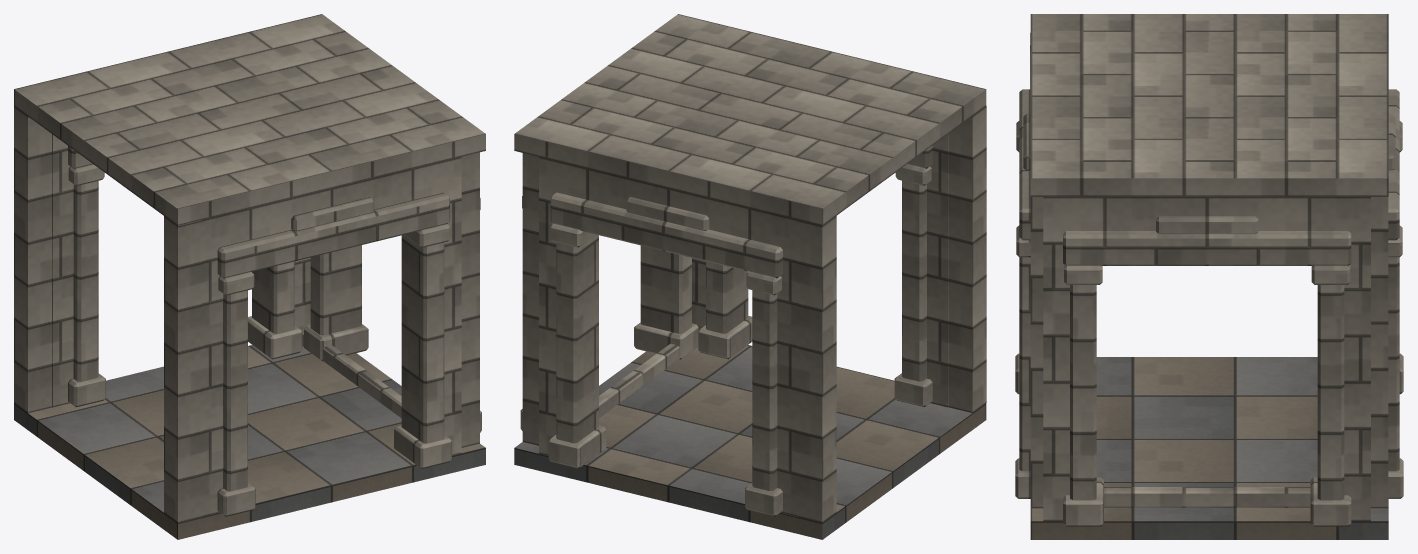
The model's file is MOD_XCross.fbx.
3 views of the same model, side by side, from view 1: azimuth 30°, elevation 25°; view 2: azimuth 150°, elevation 25°; view 3: azimuth 270°, elevation 25° (orthographic). The views are drawn at different scales.
Parts seen in each view (by area): view 1: Ceiling.001, Portal_Frame.001, Floor.001, Portal_Frame.002, Wall_Far.001, Portal_Frame.003, Wall_Far, Skirting.002; view 2: Ceiling.001, Portal_Frame.002, Floor.001, Portal_Frame.001, Wall_Far, Wall_Far.001, Portal_Frame.003, Skirting.002; view 3: Ceiling.001, Portal_Frame.003, Floor.001, Portal_Frame.002, Portal_Frame.001, Skirting.002.
Boxes of the visible parts, x1,y1,x2,y2 form: Ceiling.001: [14, 14, 485, 225]; Portal_Frame.001: [202, 157, 461, 516]; Floor.001: [14, 345, 485, 539]; Portal_Frame.002: [52, 134, 310, 407]; Wall_Far.001: [164, 216, 202, 522]; Portal_Frame.003: [304, 152, 481, 447]; Wall_Far: [14, 106, 51, 413]; Skirting.002: [302, 332, 459, 453]; Ceiling.001: [514, 14, 986, 225]; Portal_Frame.002: [539, 157, 798, 516]; Floor.001: [514, 345, 986, 539]; Portal_Frame.001: [692, 134, 948, 407]; Wall_Far: [798, 216, 836, 522]; Wall_Far.001: [948, 106, 986, 412]; Portal_Frame.003: [520, 153, 698, 445]; Skirting.002: [599, 343, 680, 417]; Ceiling.001: [1030, 14, 1388, 196]; Portal_Frame.003: [1043, 197, 1370, 526]; Floor.001: [1030, 357, 1388, 539]; Portal_Frame.002: [1371, 89, 1403, 508]; Portal_Frame.001: [1015, 89, 1043, 508]; Skirting.002: [1104, 487, 1310, 507].
Bounding box in the file's own units: 395 × 390 × 380.
